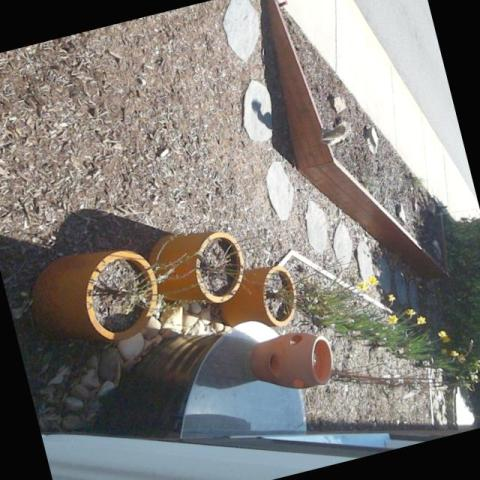small_animal: (319, 113, 353, 151)
